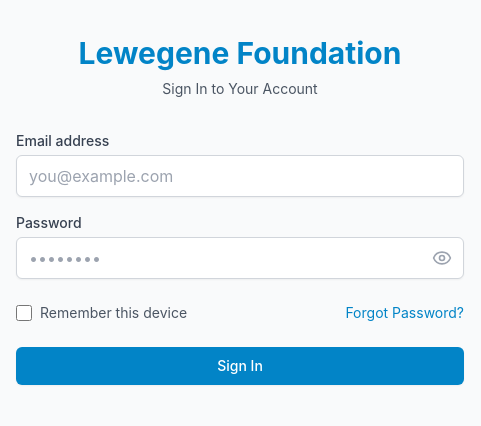
Test case: LoginPage › shows validation errors for empty fields
Click the button "Sign In". click: [240, 366]
box: [16,347,464,385]
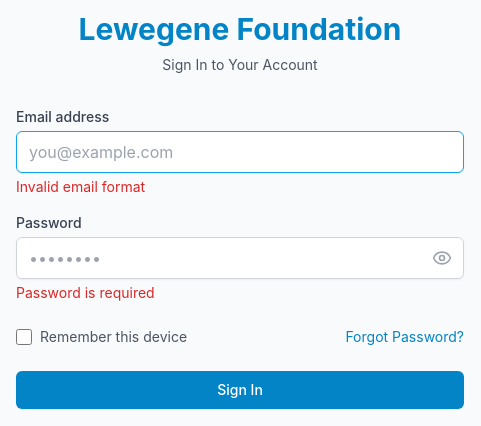
expect the text "Invalid email format" is shown: met, box [16,178,145,195]
